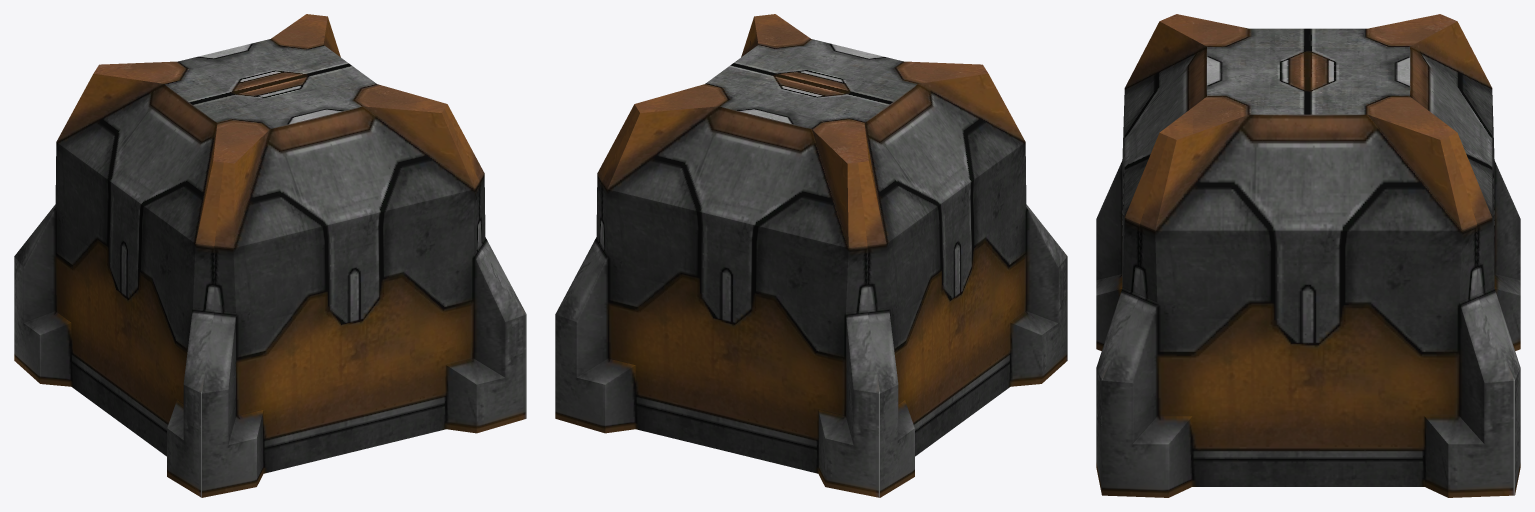
The model's file is colonistsupplycrate_00.fbx.
3 renders of one model, left to right at view 1: azimuth 30°, elevation 25°; view 2: azimuth 150°, elevation 25°; view 3: azimuth 270°, elevation 25°, orthographic. The views are drawn at different scales.
Parts seen in each view (by area): view 1: Geoset_0; view 2: Geoset_0; view 3: Geoset_0.
Part boxes in pixels (box(x1,y1,x2,y2)): Geoset_0: box(14, 14, 526, 497); Geoset_0: box(555, 14, 1067, 497); Geoset_0: box(1096, 14, 1520, 497).
Size of the model in its own units: 0.8246 by 0.722 by 0.8246.
1 material, 1 textured.
